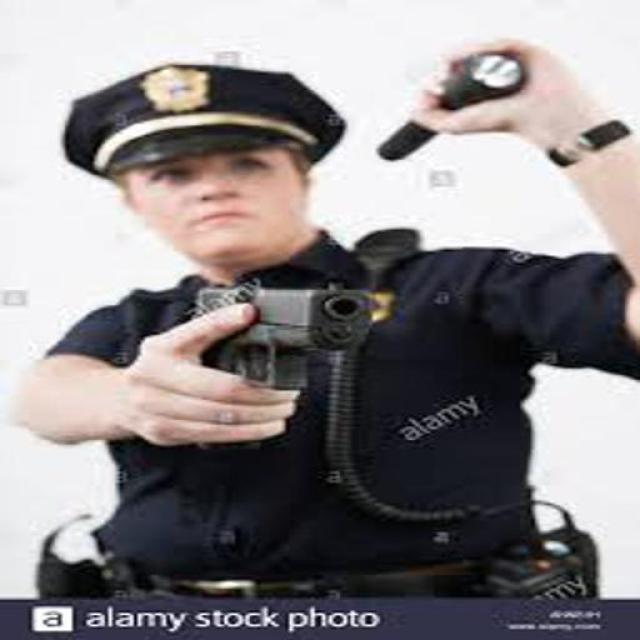pistol: (184, 275, 375, 455)
